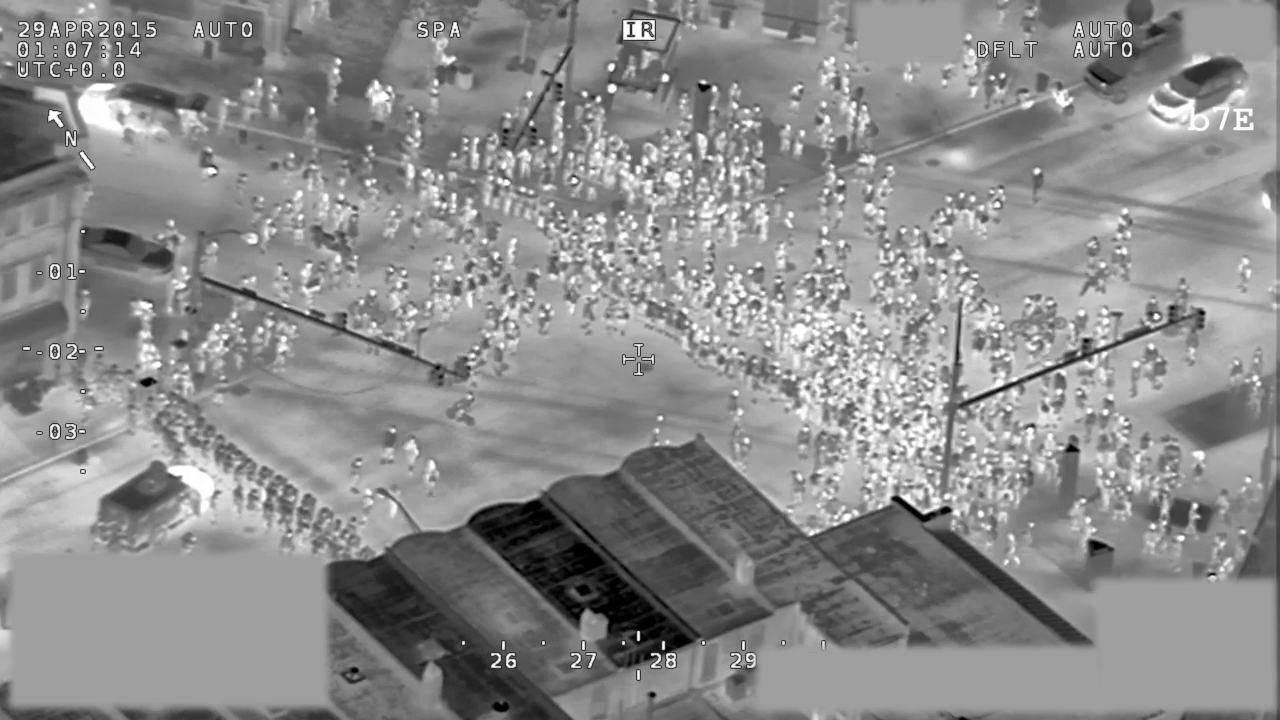vehicle: (91, 458, 218, 553), (1079, 1, 1191, 106), (1143, 54, 1252, 132), (74, 78, 213, 136), (78, 223, 177, 286)
